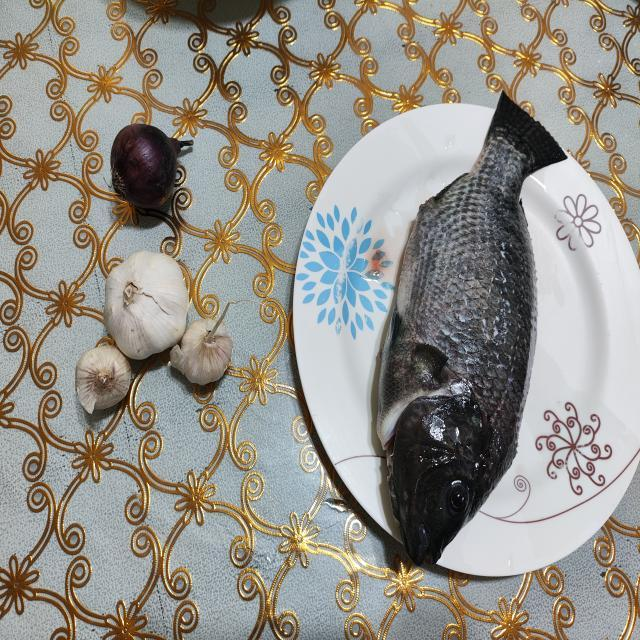fish: (381, 92, 563, 572)
garlic: (76, 253, 231, 417)
onion: (111, 122, 191, 203)
